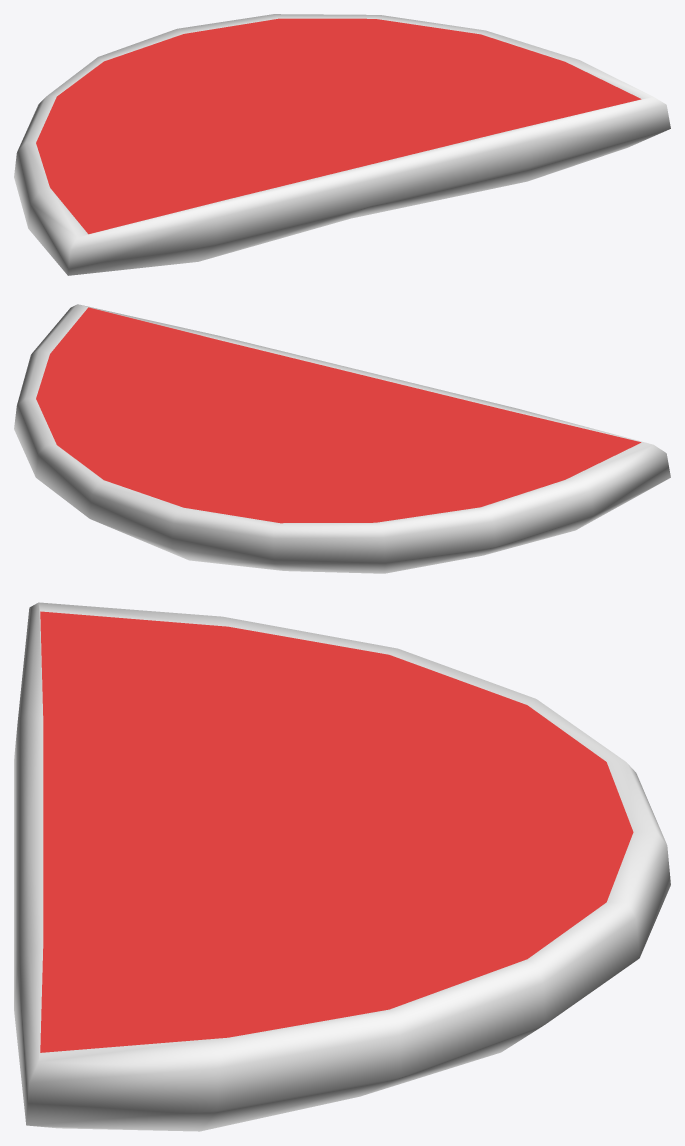
Rendered from geo_melonfridgemagenet.fbx.
3 renders of one model, top to bottom at view 1: azimuth 30°, elevation 25°; view 2: azimuth 150°, elevation 25°; view 3: azimuth 270°, elevation 25°, orthographic. The views are drawn at different scales.
Visible parts, largest first — view 1: pCylinder3; view 2: pCylinder3; view 3: pCylinder3.
Part boxes in pixels (<box>): pCylinder3: <box>14,14,670,275</box>; pCylinder3: <box>14,304,670,573</box>; pCylinder3: <box>14,602,670,1131</box>.
Size of the model in its own units: 12.21 by 1.25 by 7.05.
1 material, 1 textured.
